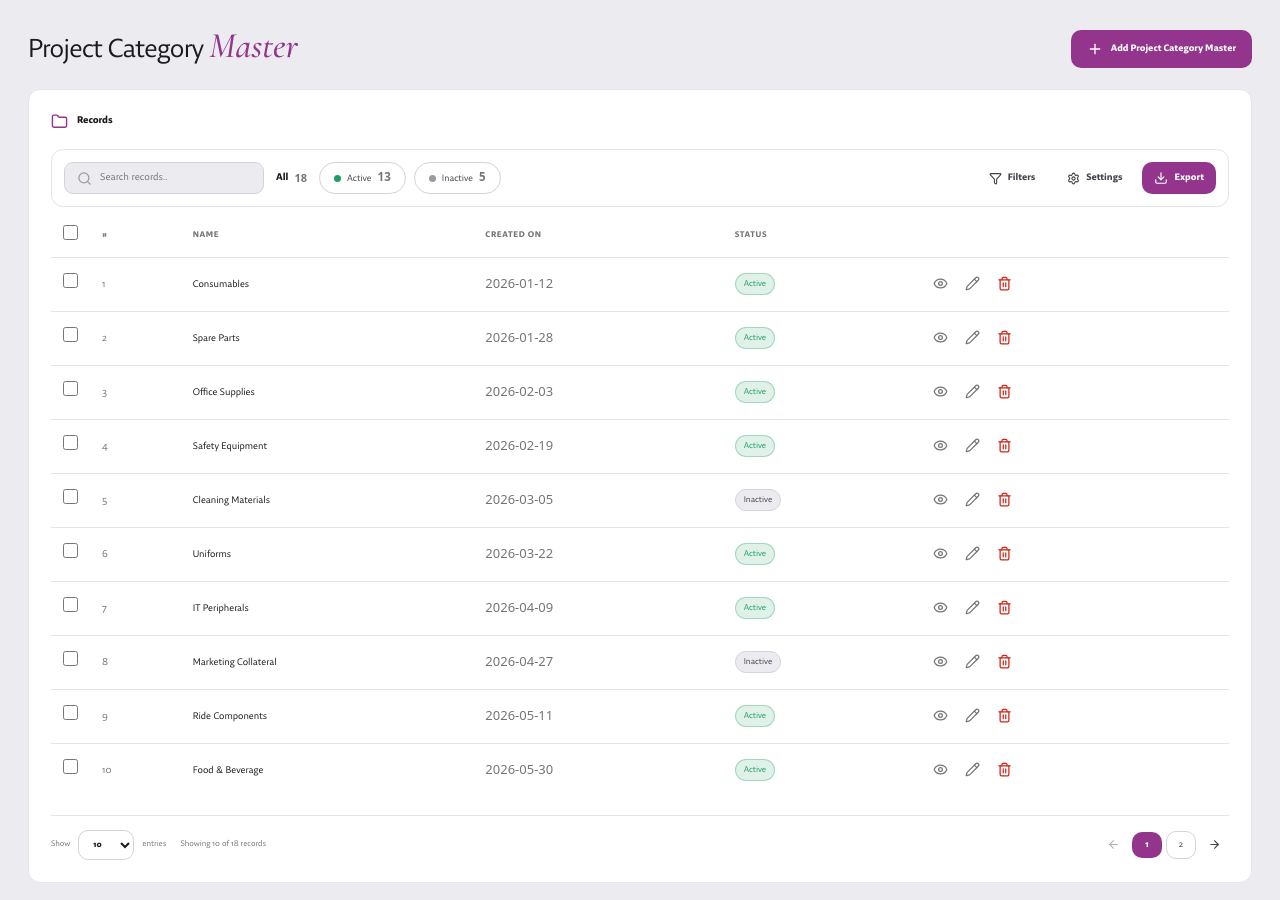
it: MasterPage — Project Category Master (pc mode) › opens the mode-specific filter dialog, applies a name filter and updates the badge
Click the button "Filters" at point(1012, 178), box [977,162,1047,194]
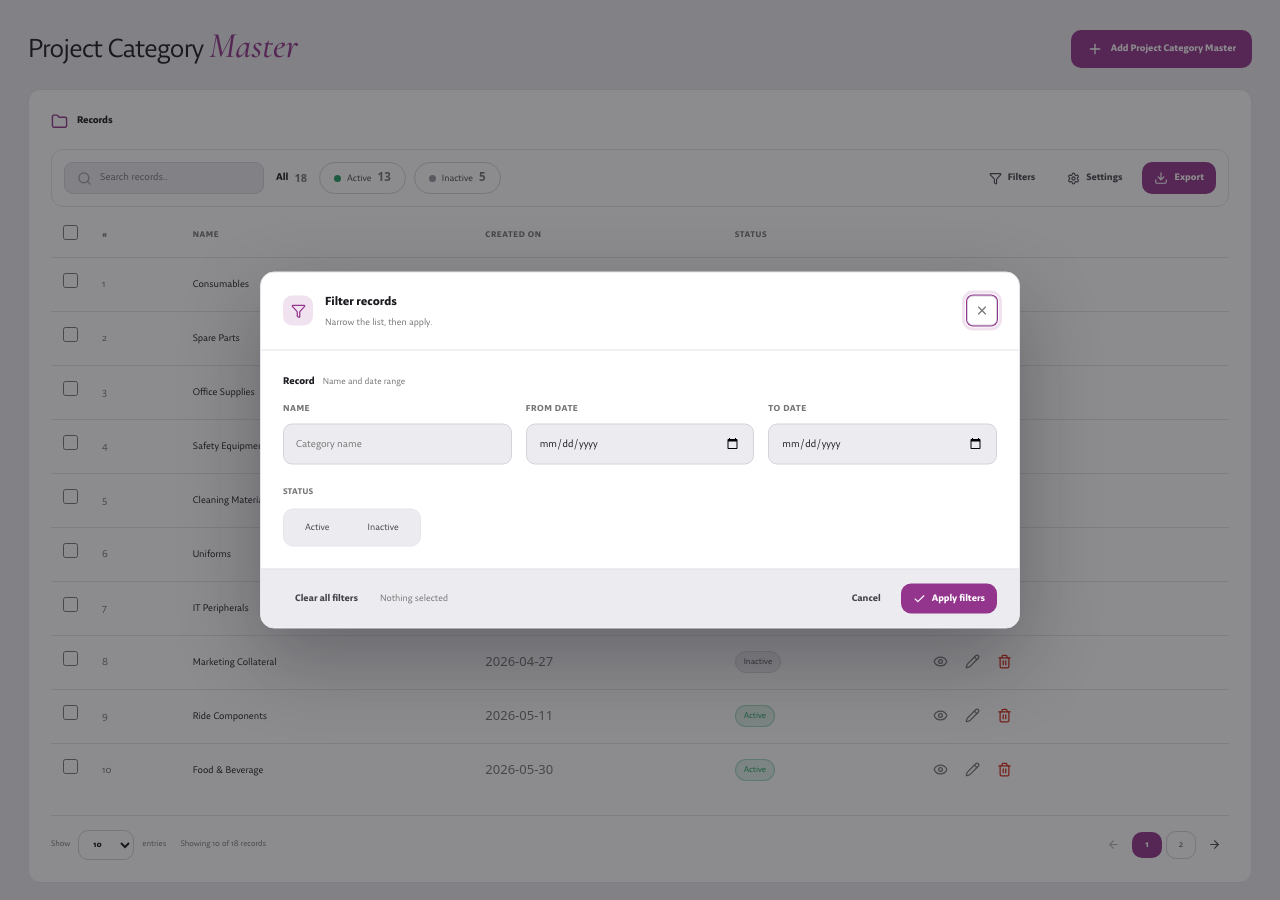
Result: the dialog "Filter records" is shown at [260,272,1020,628]
Result: the text "Name and date range" is shown at [323,372,405,389]
Type "spare" into the field labelled "name" at point(397, 444), box [283,423,512,465]
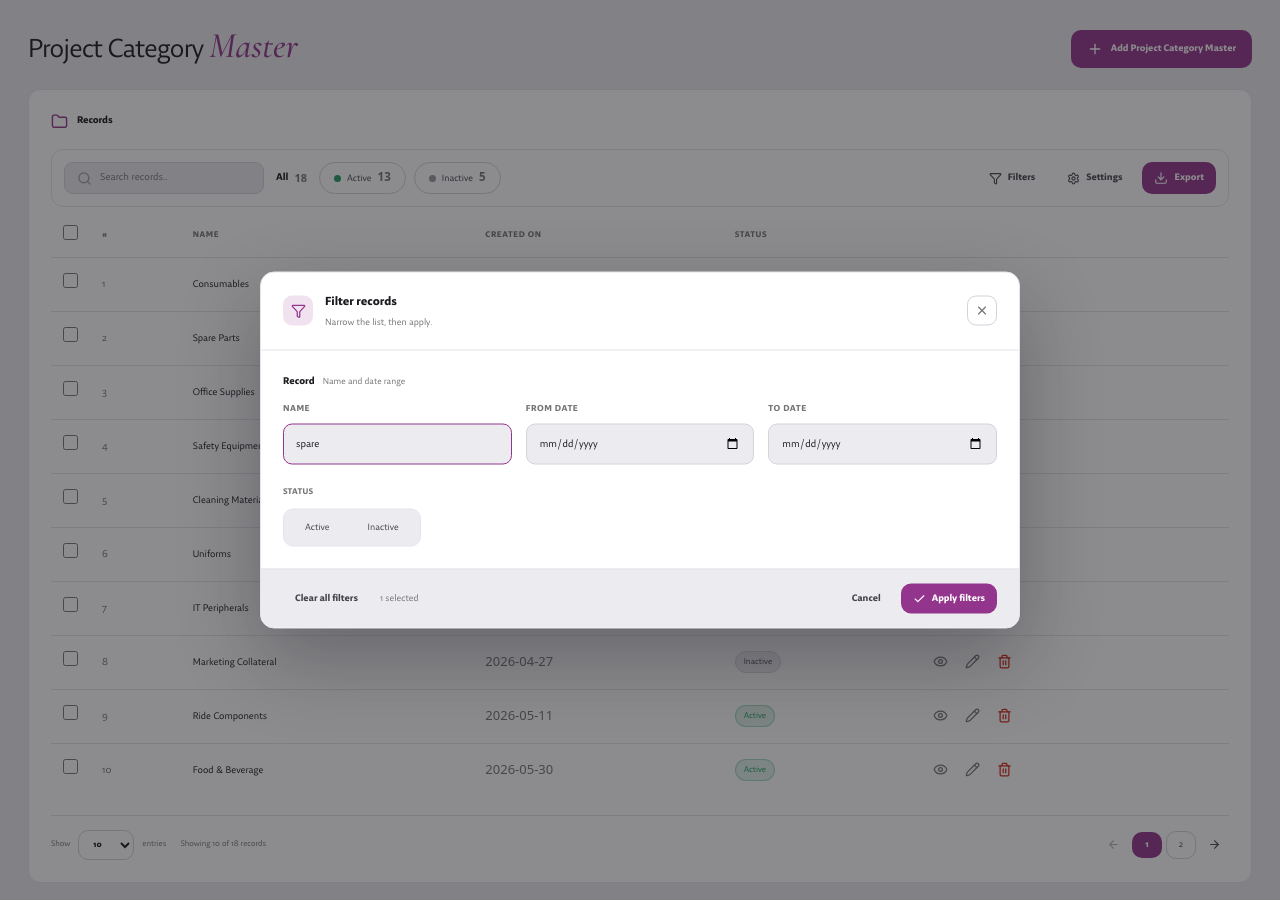
Click the button "Apply filters" at point(949, 598), box [901,584,997,614]
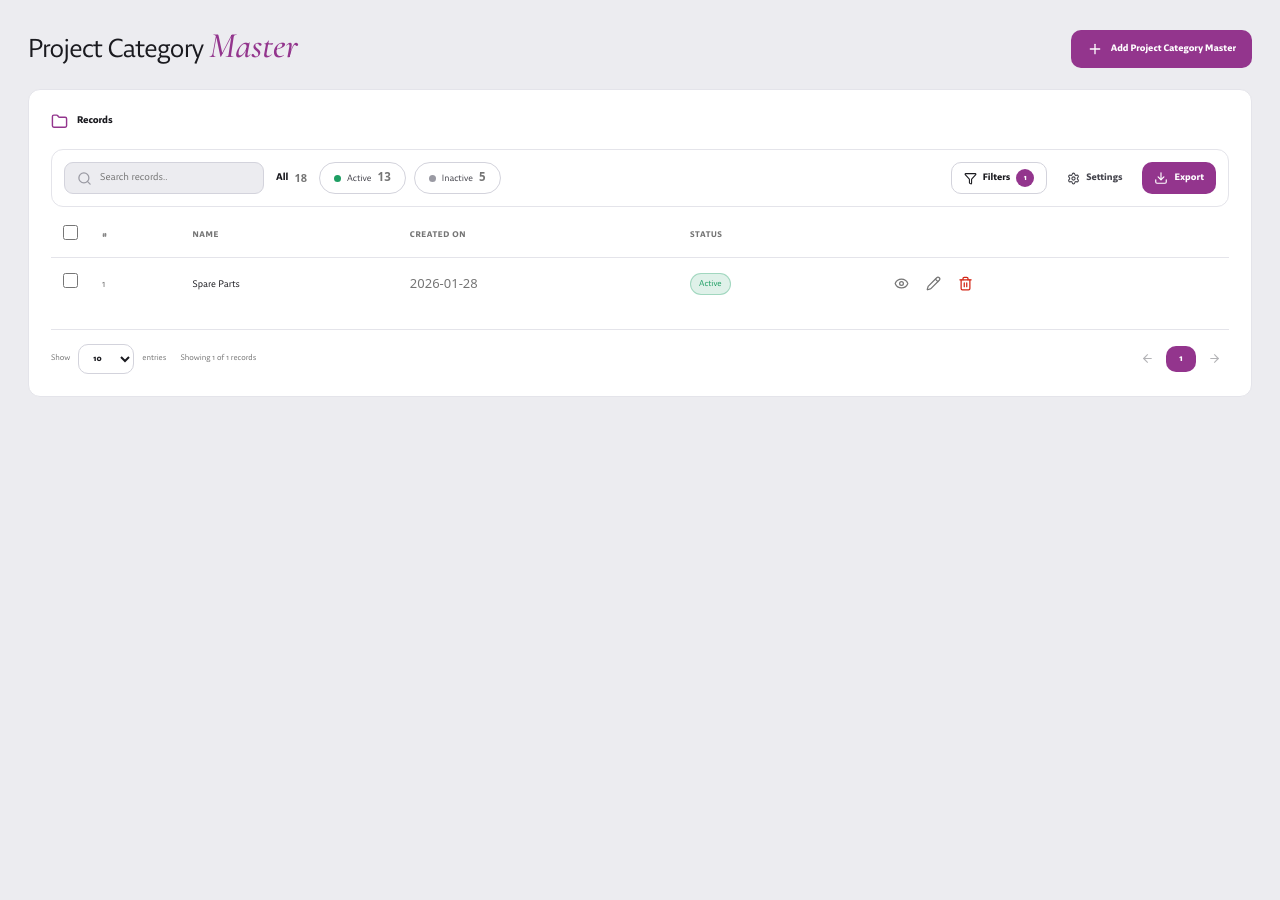
Result: the text "Showing 1 of 1 records" is shown at [180,351,256,367]
Result: the button "Filters 1" is shown at [951,162,1047,194]
